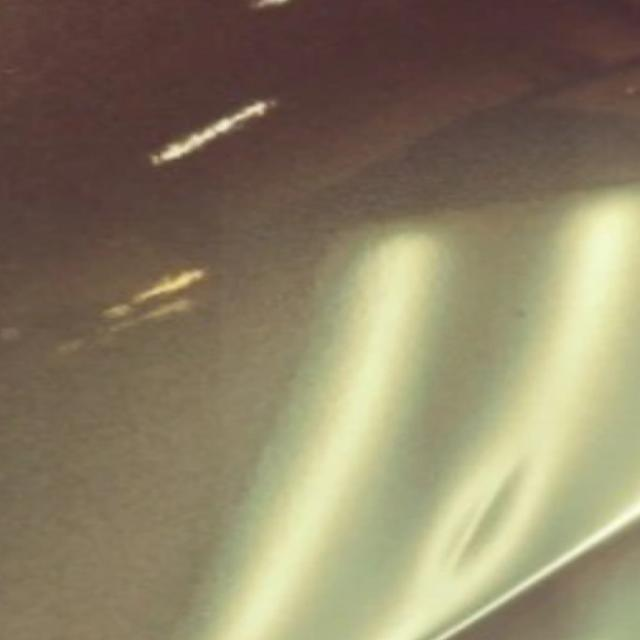dents: (427, 438, 559, 587)
